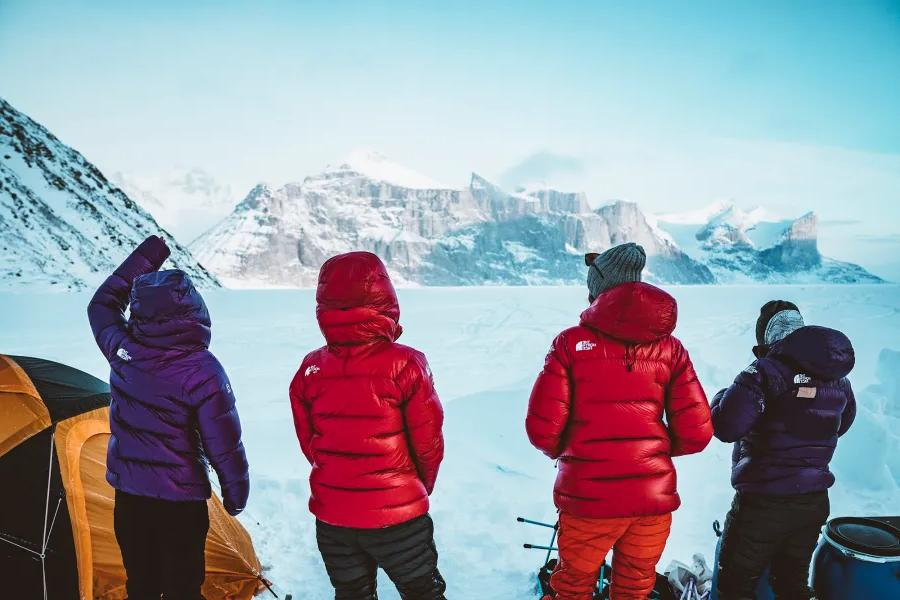coat: (521, 282, 718, 518), (84, 236, 251, 514), (287, 250, 449, 530), (709, 324, 858, 499)
trousers: (712, 489, 831, 600), (314, 509, 450, 600), (550, 505, 674, 600), (113, 489, 212, 600)
